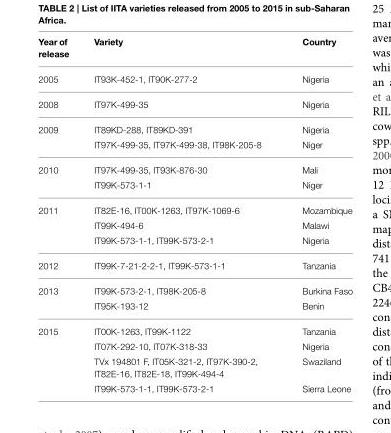table: (37, 37, 351, 393)
table column: (80, 37, 281, 393), (281, 37, 351, 393), (37, 37, 80, 393)
table column header: (37, 37, 351, 66)
table row: (37, 37, 351, 66), (37, 353, 351, 381), (37, 91, 351, 117), (37, 66, 351, 91), (37, 253, 351, 278), (37, 232, 351, 253), (37, 117, 351, 137), (37, 137, 351, 157), (37, 157, 351, 177), (37, 177, 351, 197), (37, 197, 351, 217), (37, 278, 351, 298), (37, 298, 351, 318), (37, 318, 351, 338), (37, 217, 351, 232), (37, 338, 351, 353), (37, 381, 351, 393)
table spanning cell: (37, 318, 80, 393), (37, 197, 80, 253), (37, 117, 80, 157), (37, 157, 80, 197), (37, 278, 80, 318)
